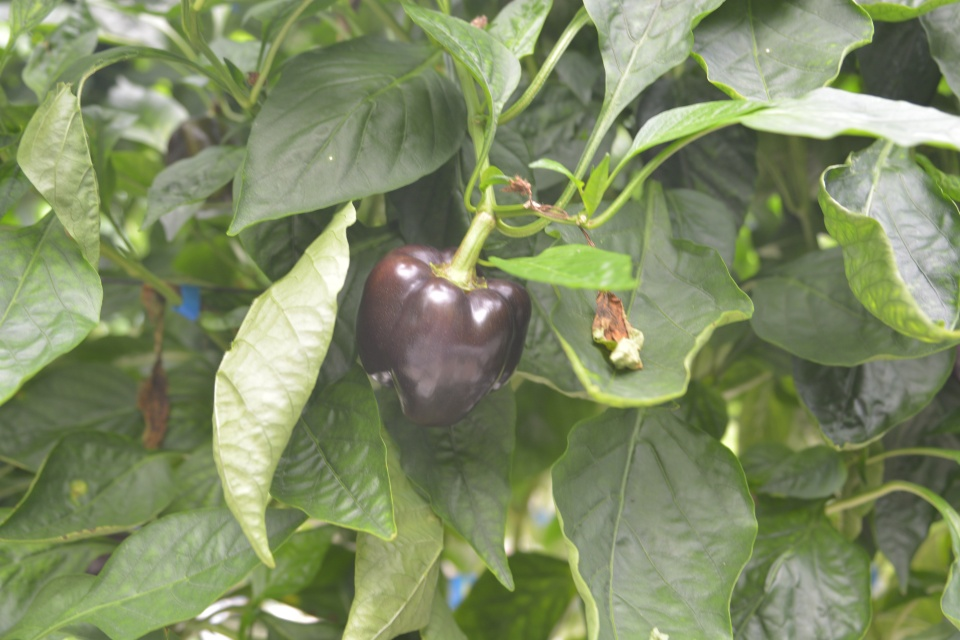fruit: (355, 240, 534, 431)
pedicle: (432, 256, 483, 292)
